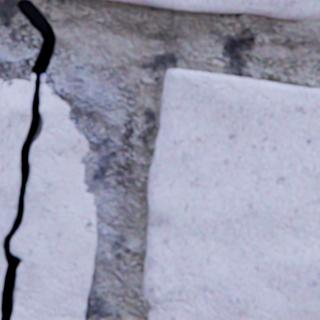brick: (143, 69, 319, 319), (113, 0, 319, 19)
broken_brick: (10, 76, 96, 319), (0, 74, 34, 300)
crack: (0, 0, 56, 319)
